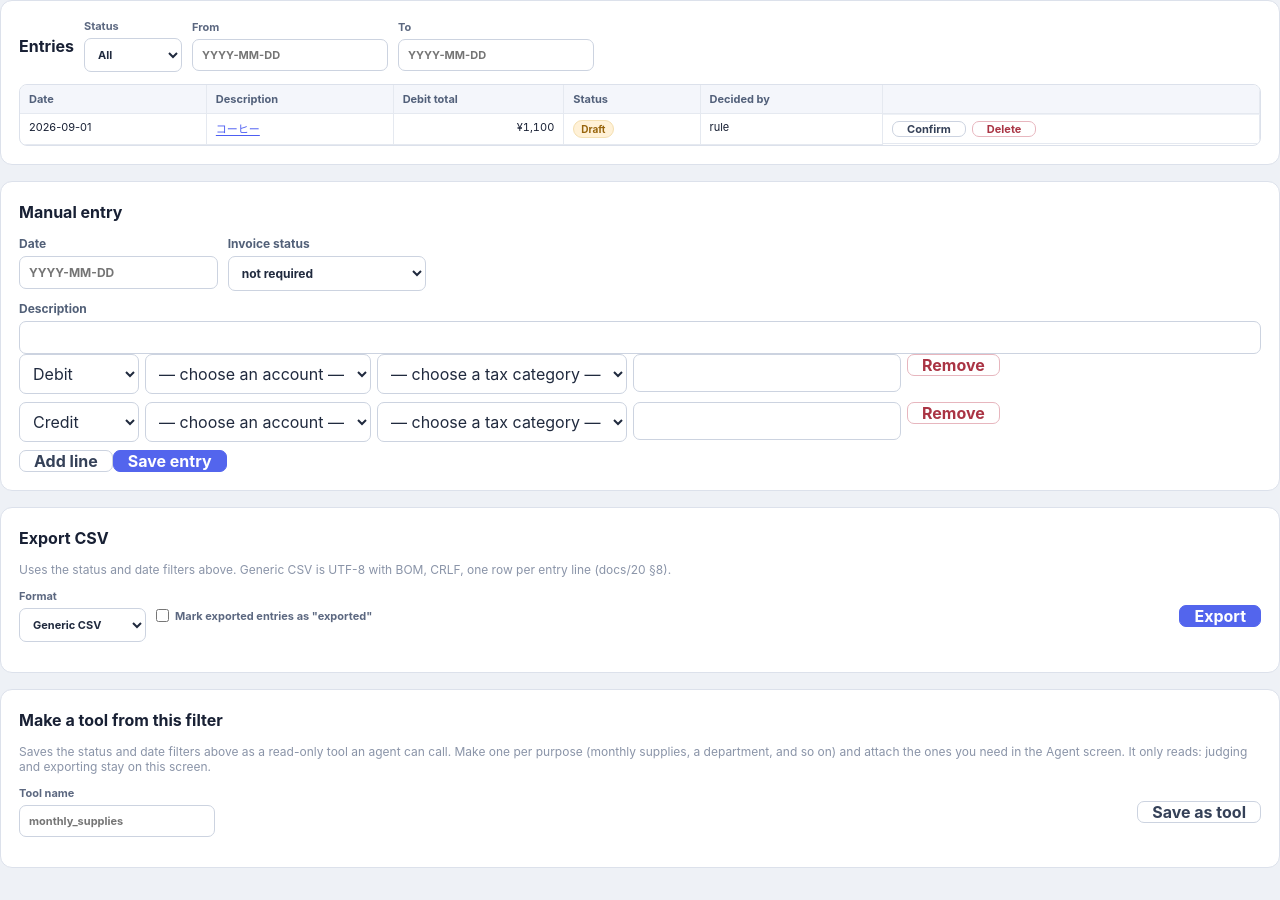
Test: ExportTab: この条件をツールにする › 異常: 名前が空のまま押しても保存せず、理由を出す
Click the button "Save as tool": click(1199, 812) [1137, 800, 1261, 822]
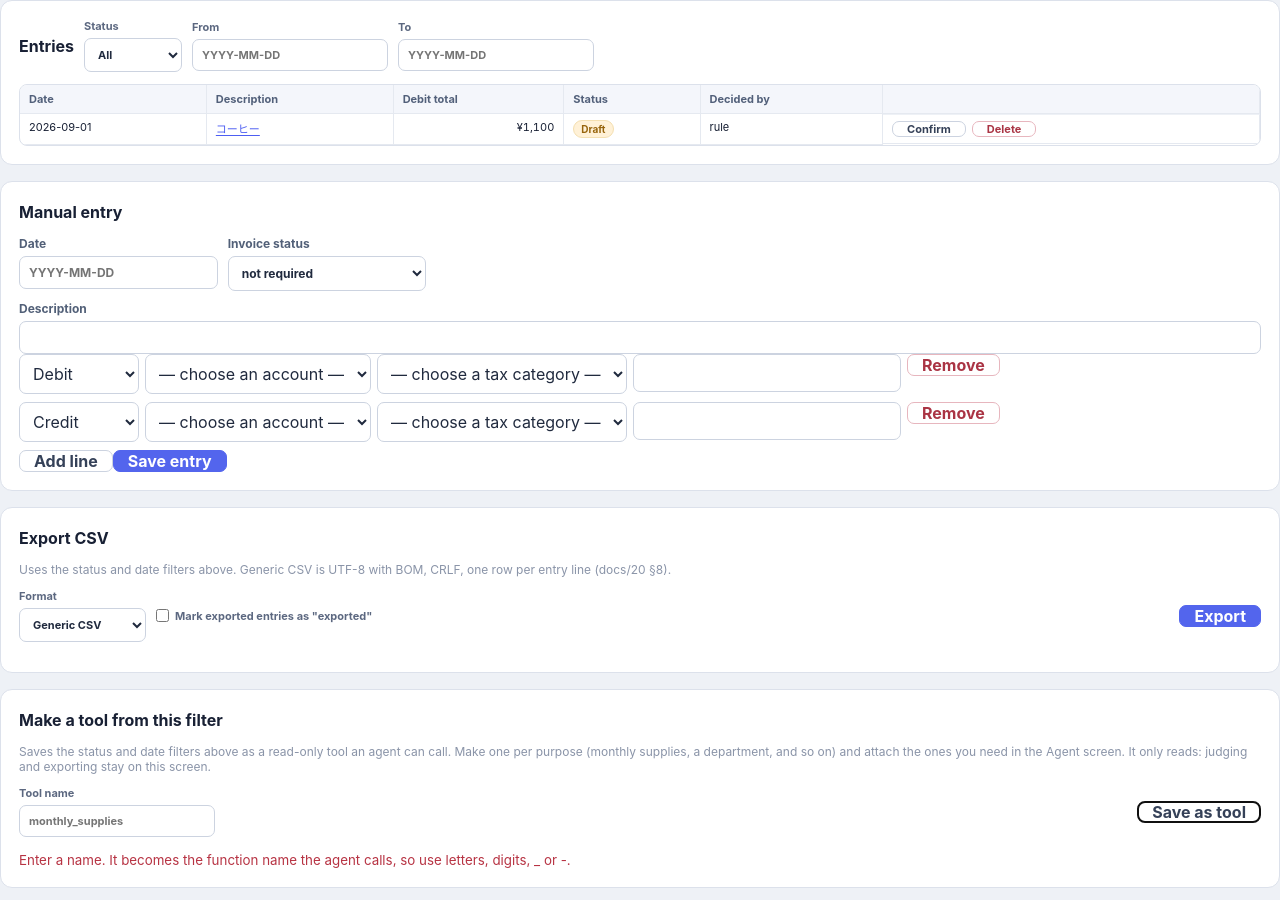
Result: the text "Enter a name" is shown at [19, 852, 571, 868]
